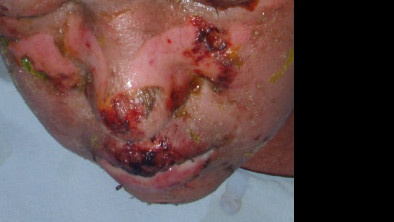SJS-TEN: (0, 0, 295, 212)
